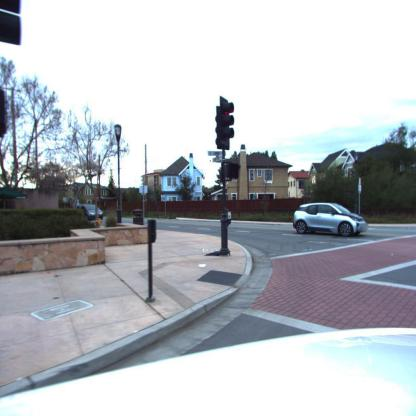car: (293, 202, 368, 236), (82, 205, 103, 224)
